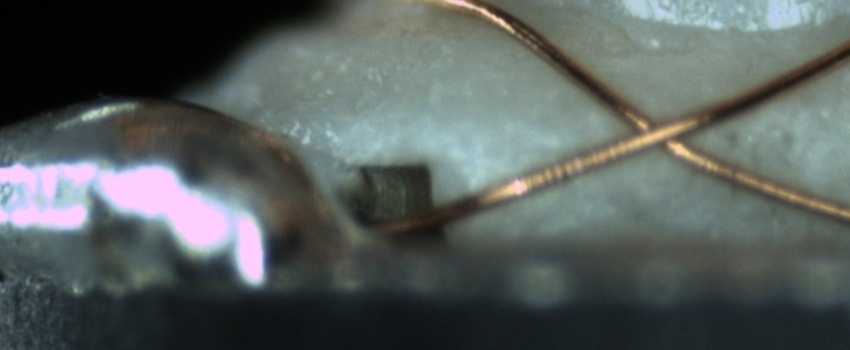CL: (600, 88, 727, 170)
